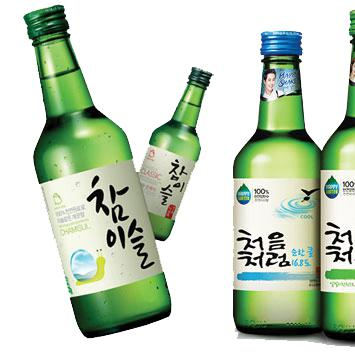soju: (16, 4, 214, 343), (230, 8, 355, 338)
